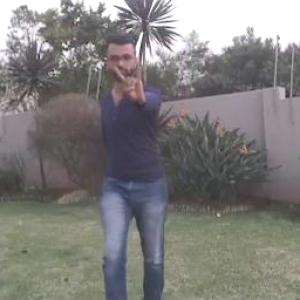takeoff-hand: (106, 60, 158, 109)
